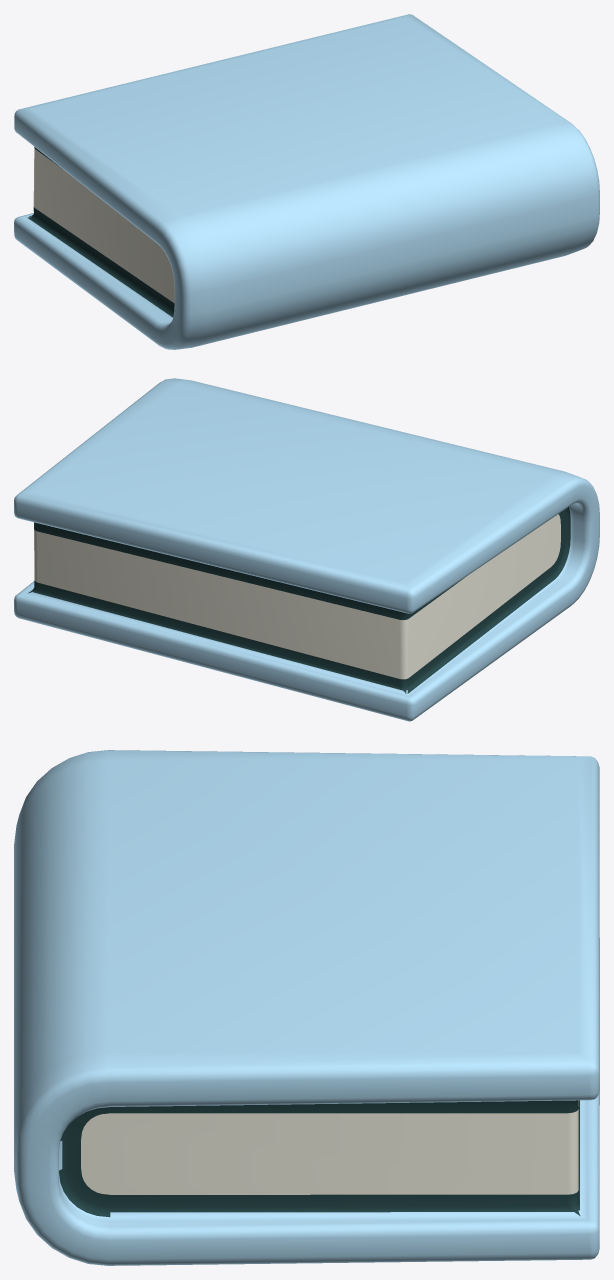
File: book_skyblue.fbx
3 renders of one model, top to bottom at view 1: azimuth 30°, elevation 25°; view 2: azimuth 150°, elevation 25°; view 3: azimuth 270°, elevation 25°, orthographic. The views are drawn at different scales.
Visible parts, largest first — view 1: Cube.005; view 2: Cube.005; view 3: Cube.005.
Boxes of the visible parts, <box> form: Cube.005: <box>14,14,599,349</box>; Cube.005: <box>14,378,599,721</box>; Cube.005: <box>14,750,599,1265</box>.
Bounding box in the file's own units: 108 × 33.21 × 81.67.
